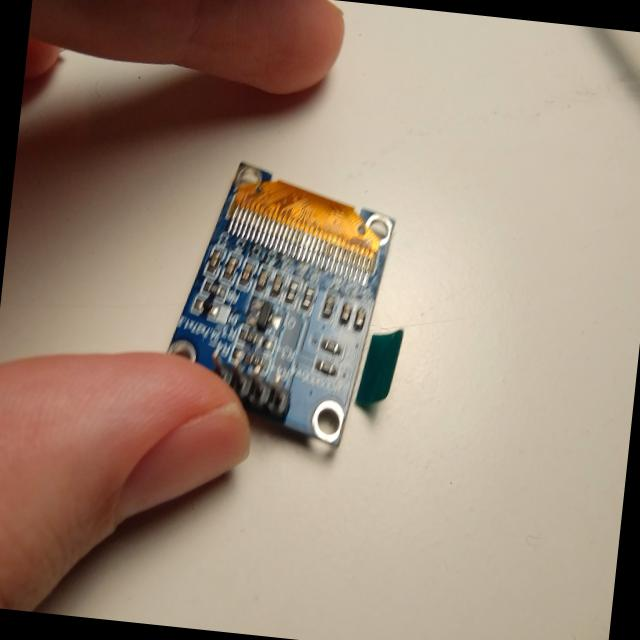oled: (152, 138, 430, 475)
